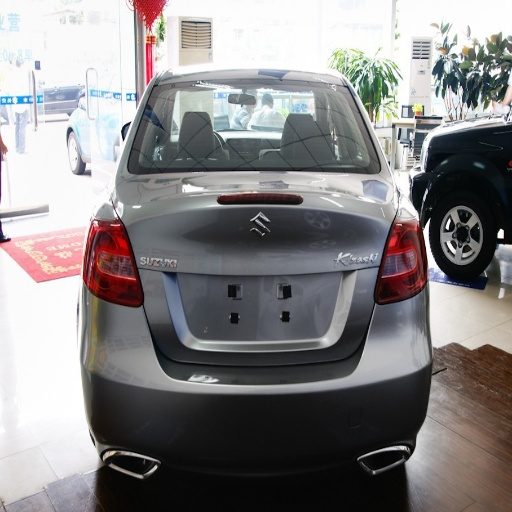back_bumper: (86, 292, 432, 487)
tailgate: (117, 171, 397, 356)
trunk: (181, 172, 340, 261)
